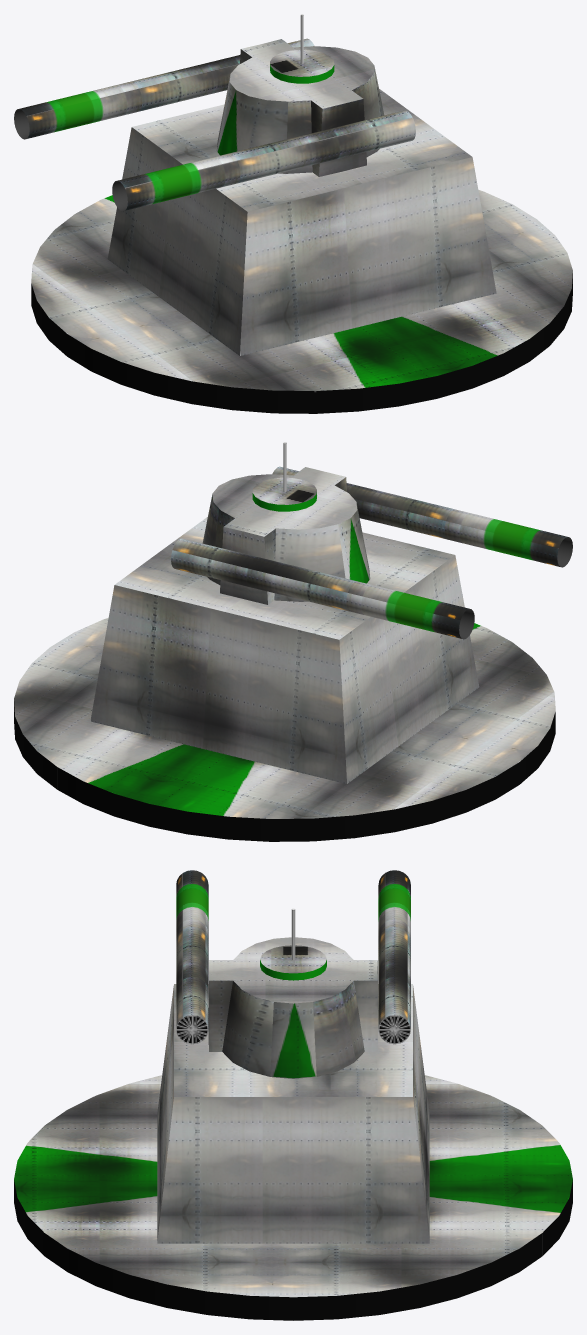
File: towerA_Green.fbx
3 views of the same model, one above another, from view 1: azimuth 30°, elevation 25°; view 2: azimuth 150°, elevation 25°; view 3: azimuth 270°, elevation 25° (orthographic). The views are drawn at different scales.
Visible parts, largest first — view 1: polySurface1; view 2: polySurface1; view 3: polySurface1.
Boxes of the visible parts, x1,y1,x2,y2 form: polySurface1: [14, 14, 572, 413]; polySurface1: [14, 442, 572, 841]; polySurface1: [14, 870, 572, 1320].
Size of the model in its own units: 15.96 by 9.24 by 15.96.
Materials: 1 (1 with a texture image).
